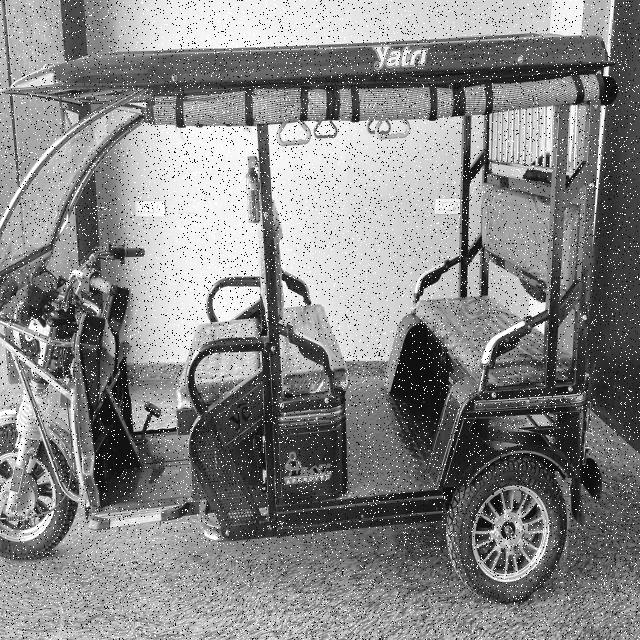Toto: (0, 27, 618, 614)
